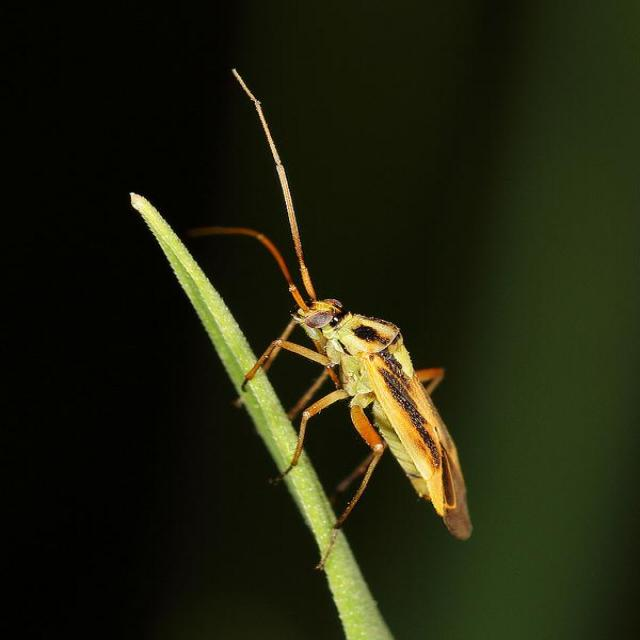Miridae-Adult-: (173, 61, 492, 567)
